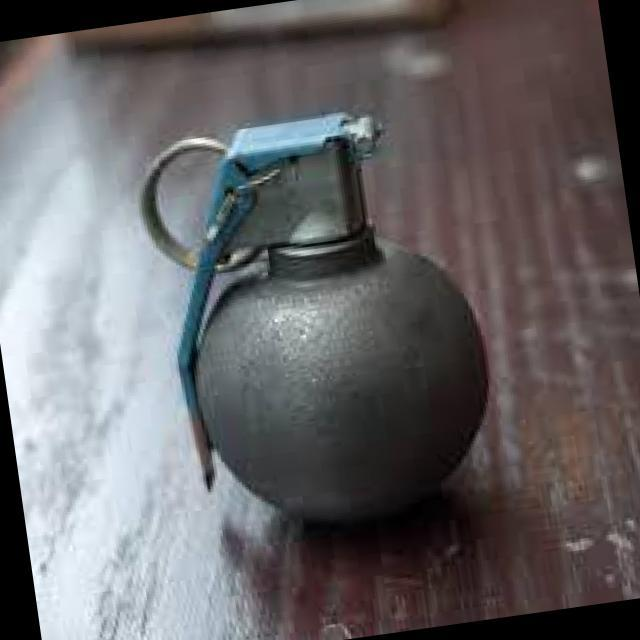grenade: (138, 82, 516, 559)
